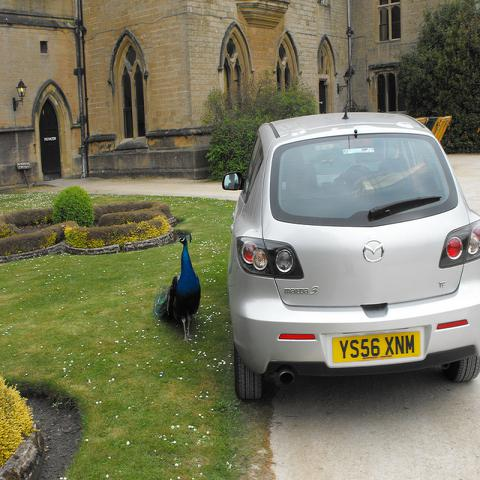car: (225, 111, 479, 405)
